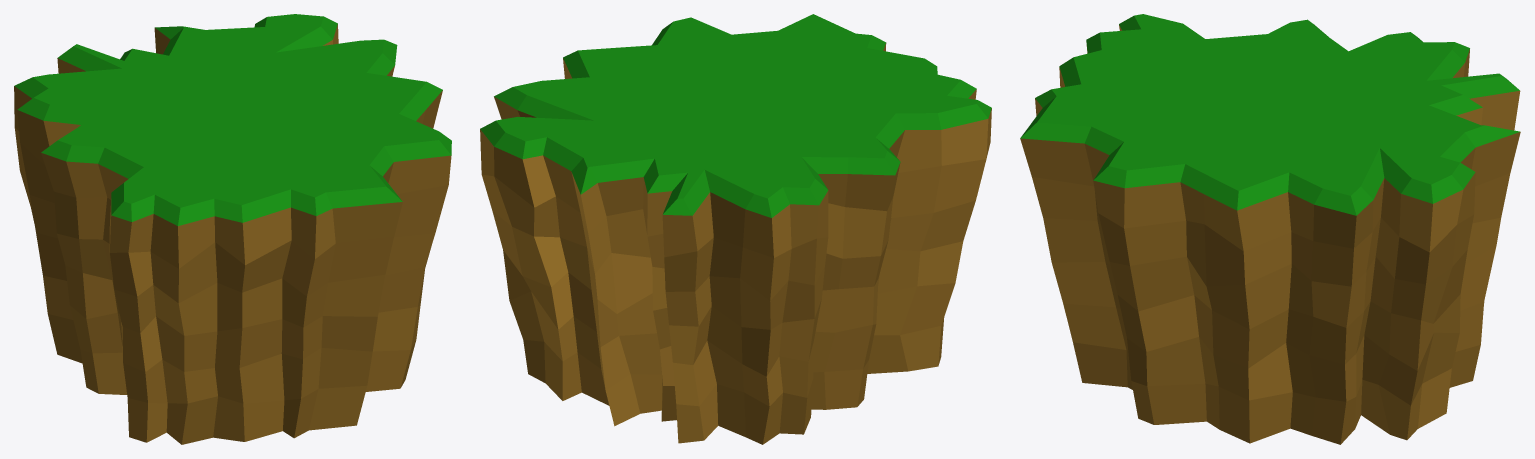
The model's file is Cliff.obj.
The picture shows the model from 3 angles, left to right: view 1: azimuth 30°, elevation 25°; view 2: azimuth 150°, elevation 25°; view 3: azimuth 270°, elevation 25°; orthographic projection. The views are drawn at different scales.
Parts seen in each view (by area): view 1: Plane; view 2: Plane; view 3: Plane.
Boxes of the visible parts, x1=… form: Plane: x1=14, y1=14, x2=451, y2=444; Plane: x1=480, y1=14, x2=991, y2=444; Plane: x1=1020, y1=14, x2=1520, y2=444.
Size of the model in its own units: 1.89 by 1.19 by 2.02.
